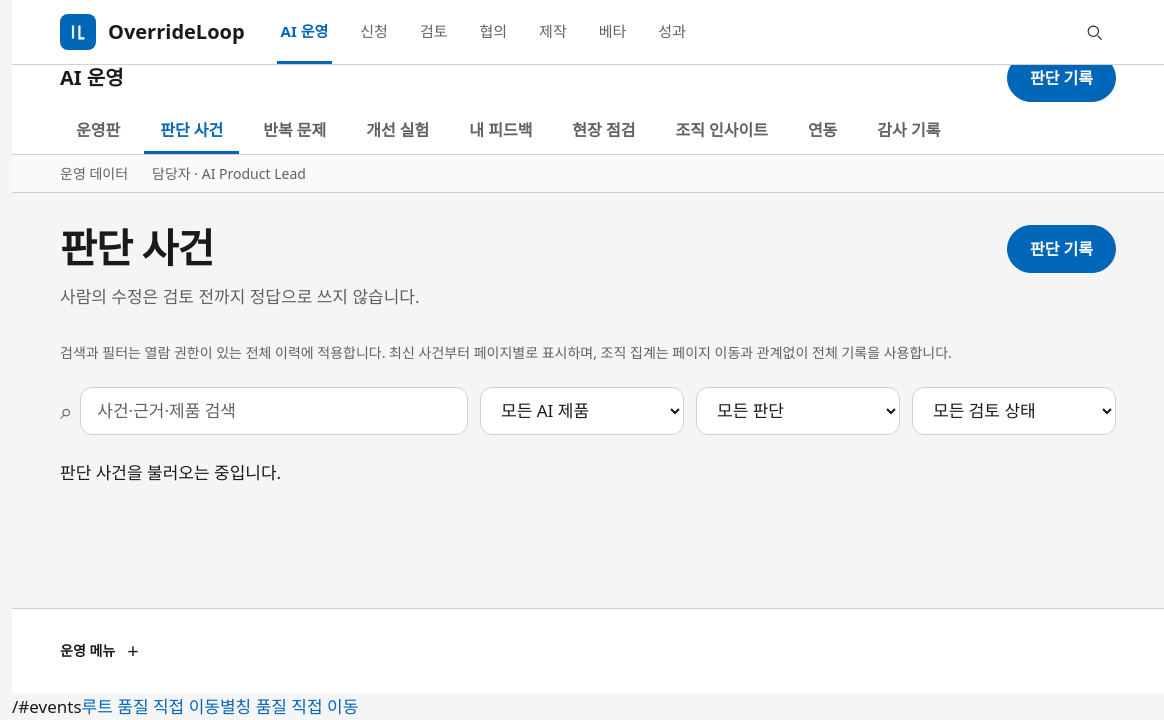
accepts a React Router hash link on the same pathname
(page scrolled)
Expected: the navigation bar named "OverrideLoop 주요 메뉴" is shown, [60,110,956,154]
Click the link "루트 품질 직접 이동". click: (151, 706)
box: [82,695,220,718]
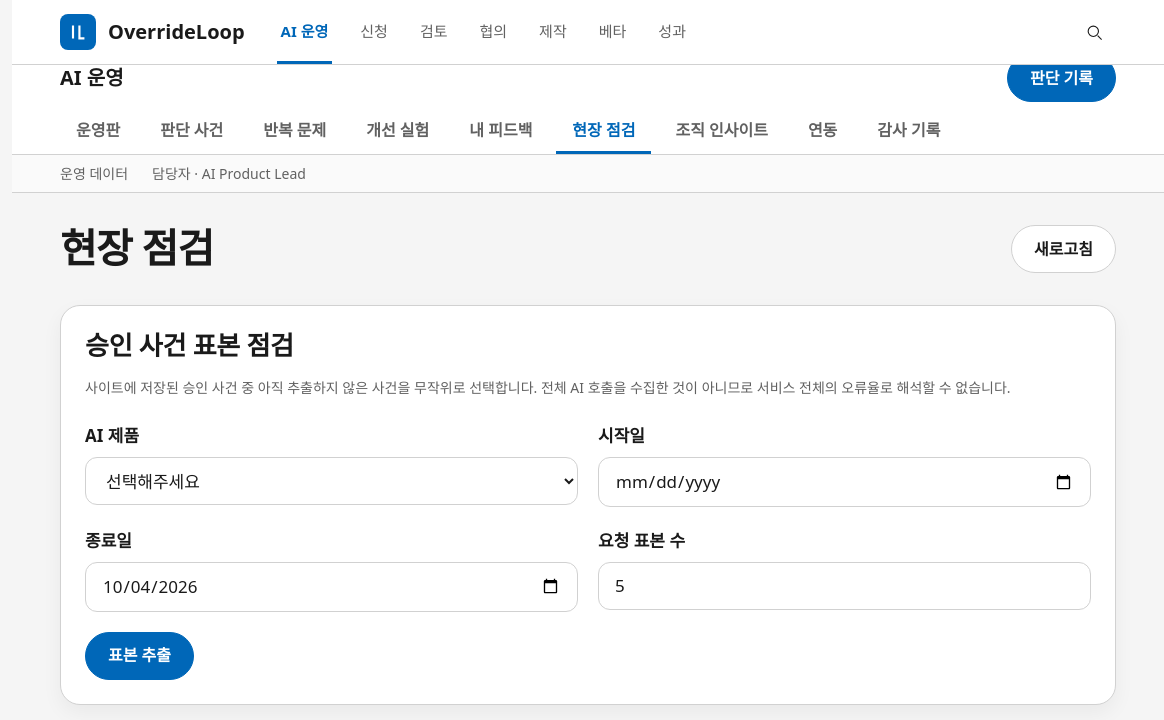
Expected: the button "현장 점검" is shown, [556,110,651,154]
